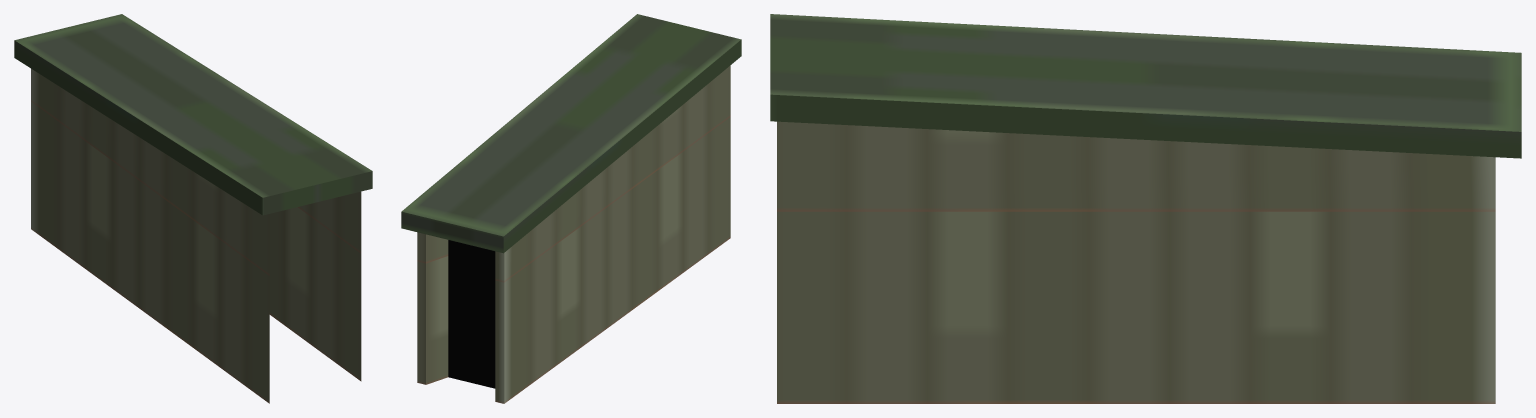
The model's file is roof_window_v1b005.fbx.
3 views of the same model, side by side, from view 1: azimuth 30°, elevation 25°; view 2: azimuth 150°, elevation 25°; view 3: azimuth 270°, elevation 25° (orthographic). The views are drawn at different scales.
Parts seen in each view (by area): view 1: roof_window_v1b005; view 2: roof_window_v1b005; view 3: roof_window_v1b005.
Boxes of the visible parts, bbox=[...] form: roof_window_v1b005: bbox=[14, 14, 372, 403]; roof_window_v1b005: bbox=[401, 14, 741, 403]; roof_window_v1b005: bbox=[770, 14, 1521, 403].
Size of the model in its own units: 89.92 by 164 by 354.
